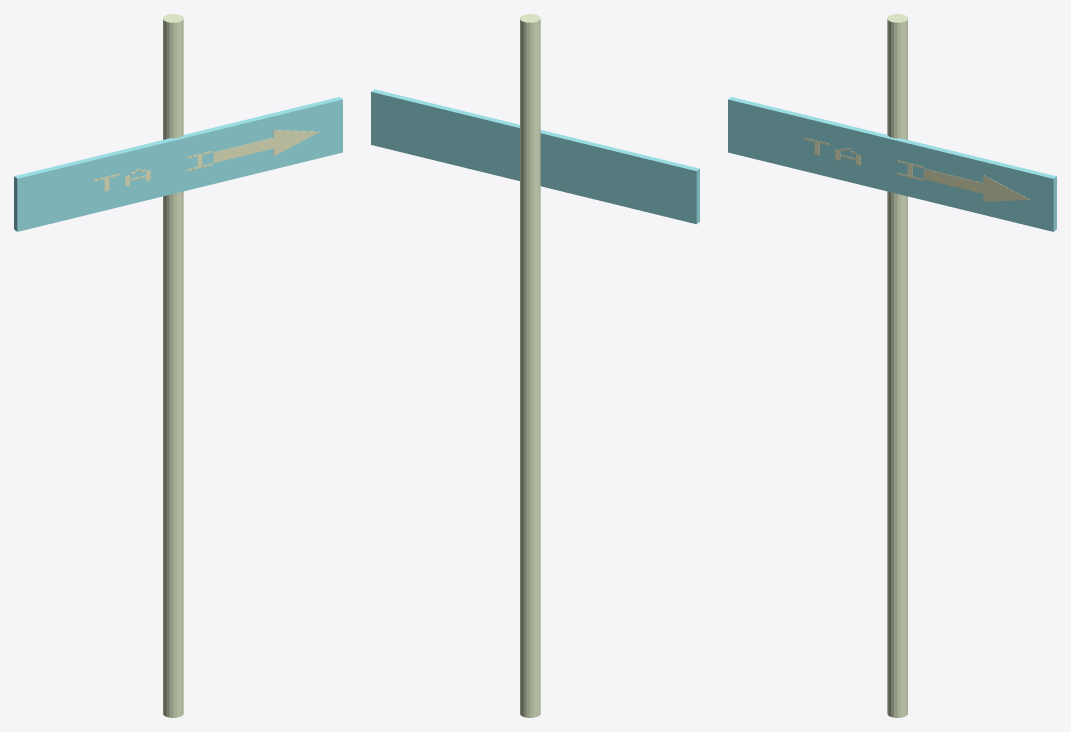
File: sign_taxi_arrow_right.glb
3 views of the same model, side by side, from view 1: azimuth 30°, elevation 25°; view 2: azimuth 150°, elevation 25°; view 3: azimuth 330°, elevation 25° (orthographic).
Visible parts, largest first — view 1: plate_base_00, pole, layer_1_42, layer_1_43; view 2: plate_base_00, pole; view 3: plate_base_00, pole, layer_1_42, layer_1_43.
Boxes of the visible parts, x1,y1,x2,y2 form: plate_base_00: (14, 97, 342, 231); pole: (163, 14, 183, 717); layer_1_42: (213, 138, 273, 162); layer_1_43: (273, 130, 319, 156); plate_base_00: (371, 89, 699, 224); pole: (520, 14, 540, 717); plate_base_00: (728, 97, 1056, 231); pole: (887, 14, 907, 717); layer_1_42: (923, 168, 983, 193); layer_1_43: (983, 175, 1029, 201).
Bounding box in the file's own units: 1.08 × 2.2 × 0.071.
